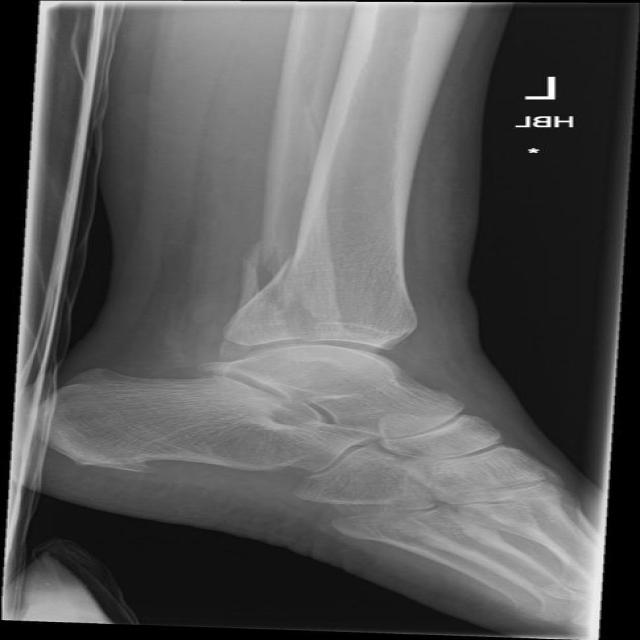Oblique Displaced: (208, 226, 337, 350)
